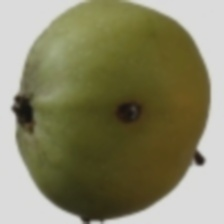apple: (22, 16, 158, 164)
